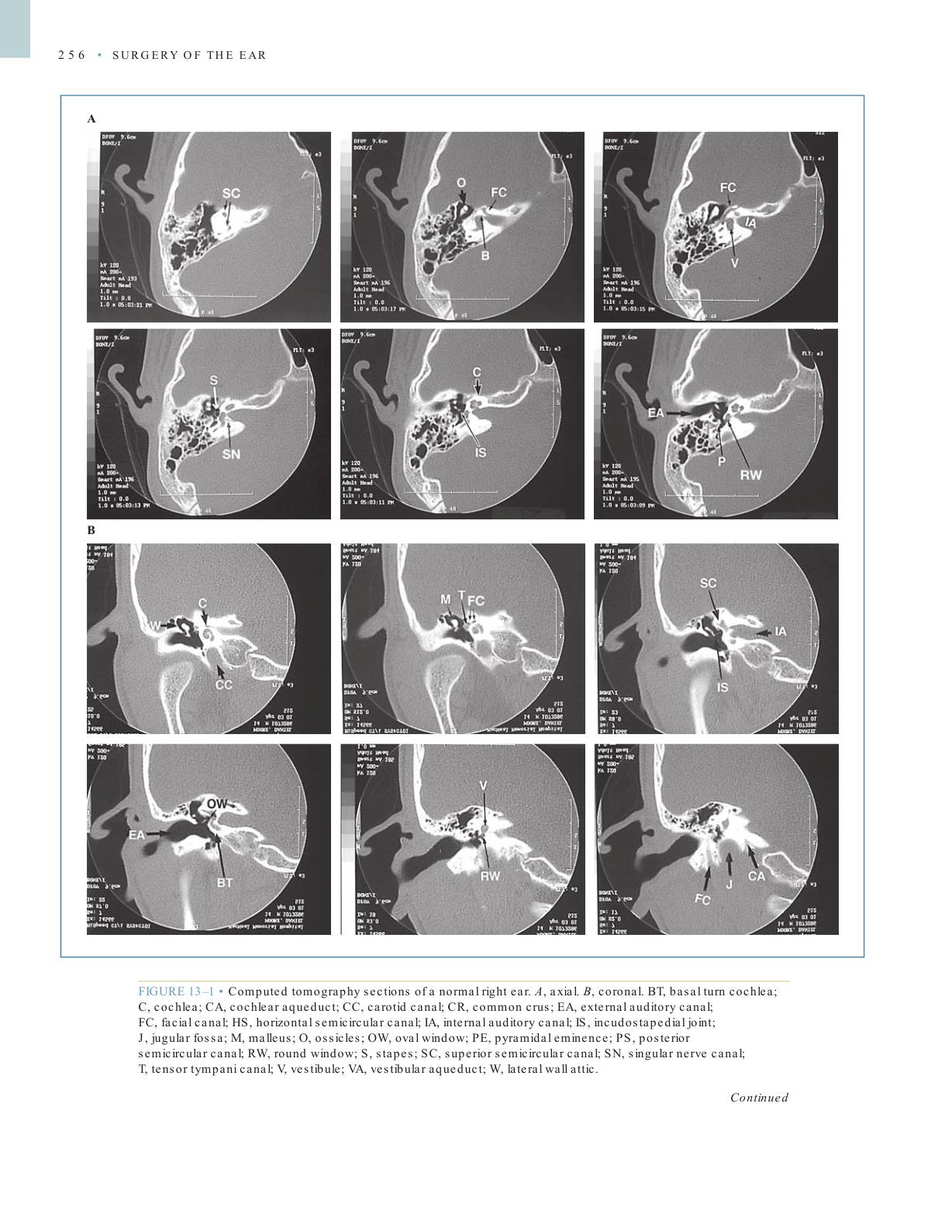caption: (136, 985, 780, 1078), (86, 112, 97, 125), (86, 525, 97, 536)
header: (112, 49, 267, 60)
image: (86, 541, 841, 937), (85, 128, 842, 522)
